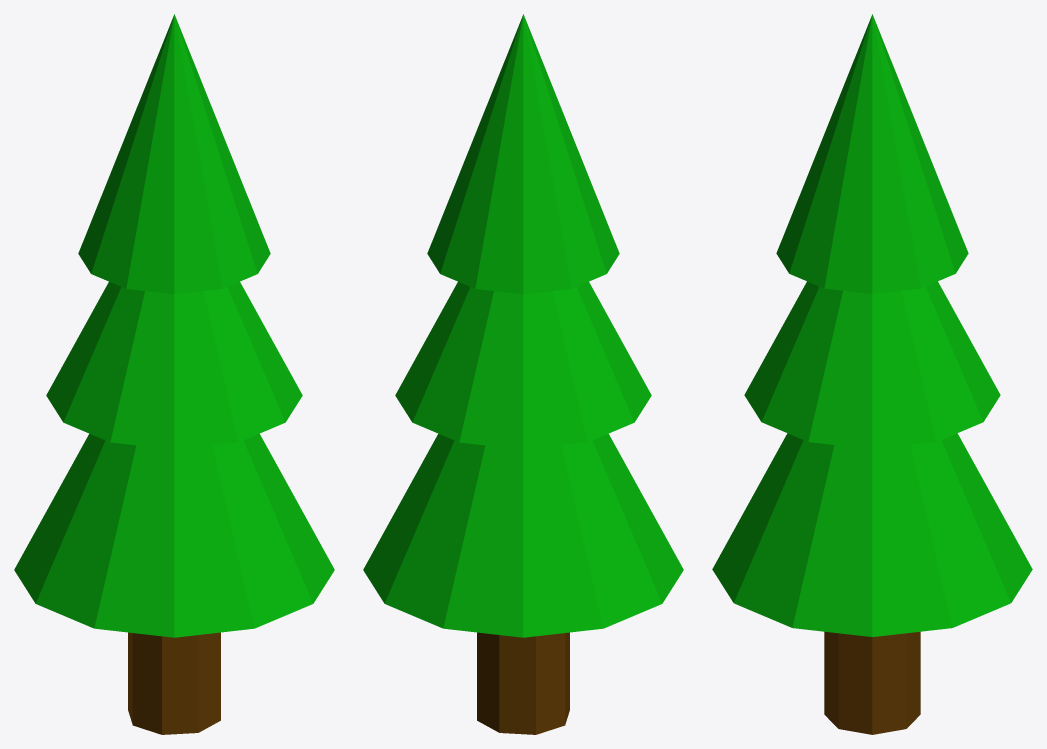
Rendered from lowpolypinetree.glb.
The picture shows the model from 3 angles, left to right: view 1: azimuth 30°, elevation 25°; view 2: azimuth 150°, elevation 25°; view 3: azimuth 270°, elevation 25°; orthographic projection.
Parts seen in each view (by area): view 1: Cylinder; view 2: Cylinder; view 3: Cylinder.
Boxes of the visible parts, x1,y1,x2,y2 form: Cylinder: (14, 14, 334, 734); Cylinder: (363, 14, 683, 734); Cylinder: (712, 14, 1032, 734).
Bounding box in the file's own units: 2 × 4.82 × 2.
